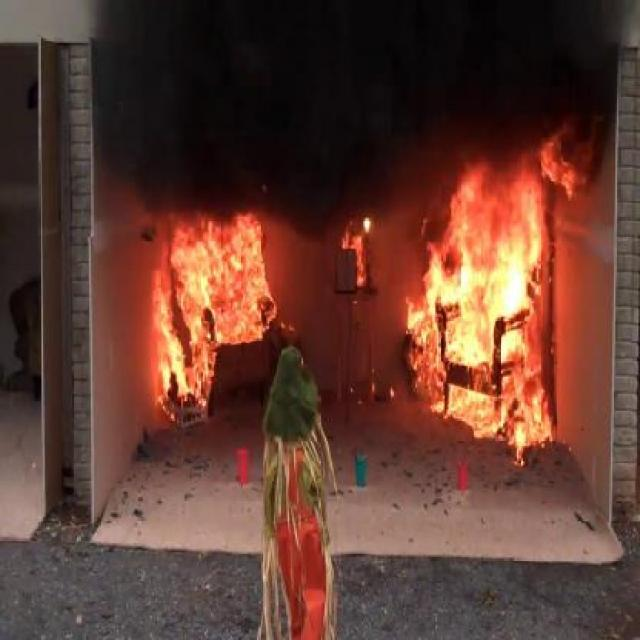fire: (417, 175, 563, 440), (152, 222, 271, 398)
smoke: (103, 3, 580, 175)
